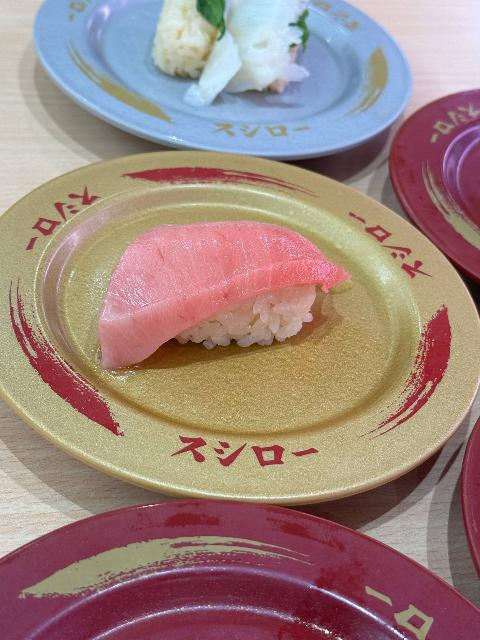jangold: (0, 168, 445, 459)
janred: (1, 485, 478, 640), (386, 103, 480, 255), (459, 406, 480, 558)
janwhite: (33, 1, 390, 158)
